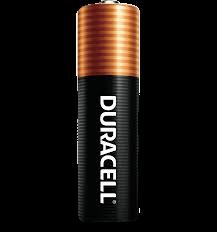Battery: (76, 1, 141, 224)
